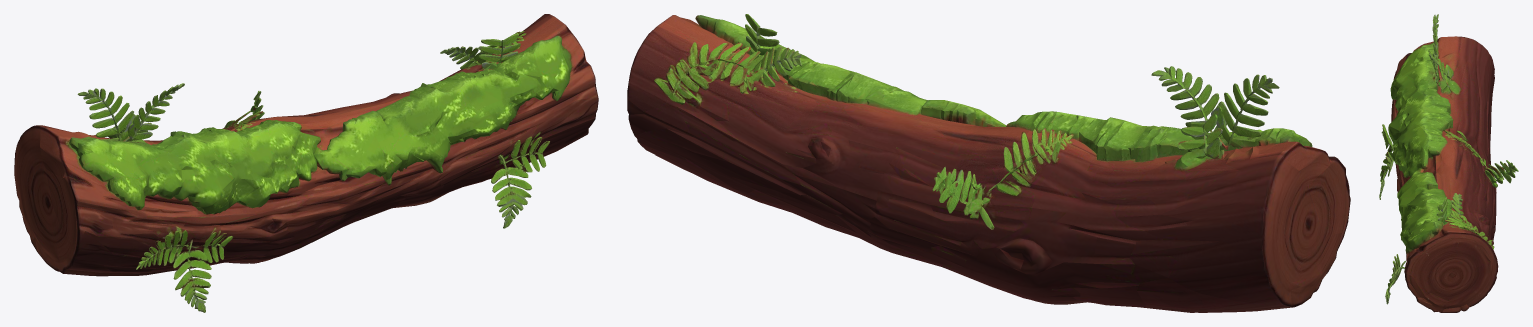
The model's file is MossBranch.fbx.
3 views of the same model, side by side, from view 1: azimuth 30°, elevation 25°; view 2: azimuth 150°, elevation 25°; view 3: azimuth 270°, elevation 25° (orthographic). The views are drawn at different scales.
Visible parts, largest first — view 1: MossBranch; view 2: MossBranch; view 3: MossBranch.
Part boxes in pixels (x1,y1,x2,y2): MossBranch: (14,14,598,312); MossBranch: (627,14,1350,312); MossBranch: (1379,14,1518,312).
Size of the model in its own units: 2 by 0.7792 by 0.6234.
Materials: 1 (1 with a texture image).
